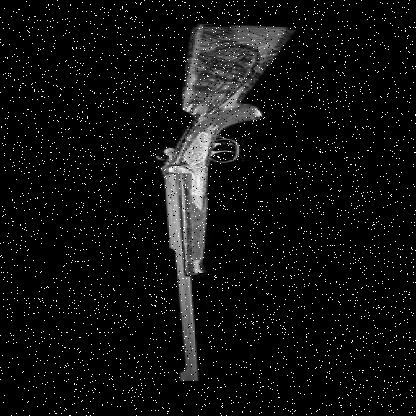rifle: (99, 16, 323, 391)
